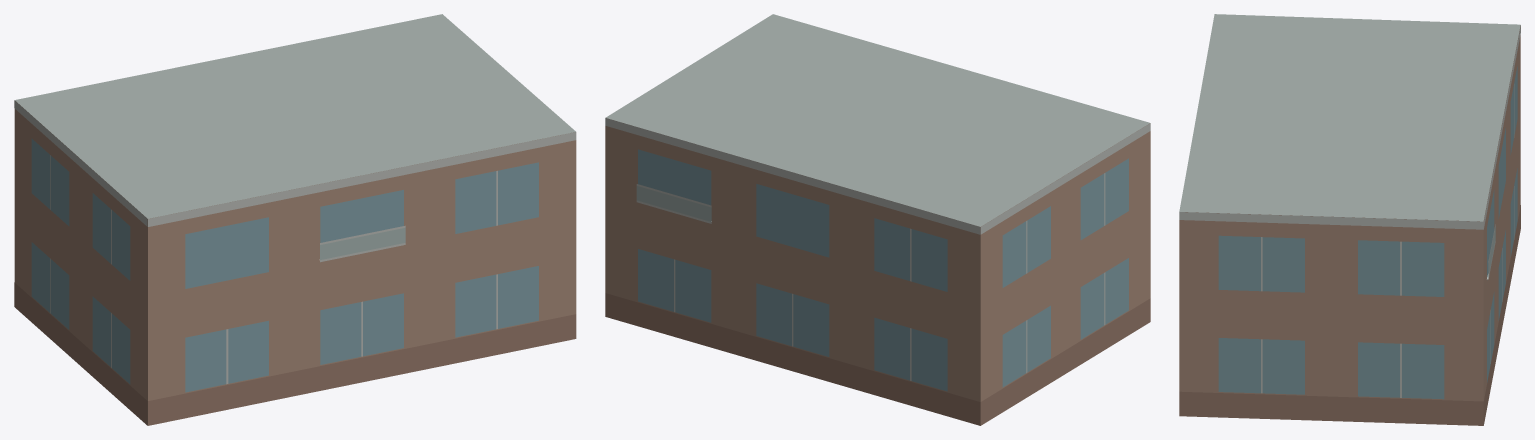
File: survey-upis-32826898.glb
3 views of the same model, side by side, from view 1: azimuth 30°, elevation 25°; view 2: azimuth 150°, elevation 25°; view 3: azimuth 270°, elevation 25° (orthographic). The views are drawn at different scales.
Parts seen in each view (by area): view 1: survey-upis-32826898.tmp; view 2: survey-upis-32826898.tmp; view 3: survey-upis-32826898.tmp.
Boxes of the visible parts, x1,y1,x2,y2 form: survey-upis-32826898.tmp: [14, 14, 576, 425]; survey-upis-32826898.tmp: [605, 14, 1150, 425]; survey-upis-32826898.tmp: [1179, 14, 1520, 425].
Bounding box in the file's own units: 13.3 × 6.1 × 9.25.
